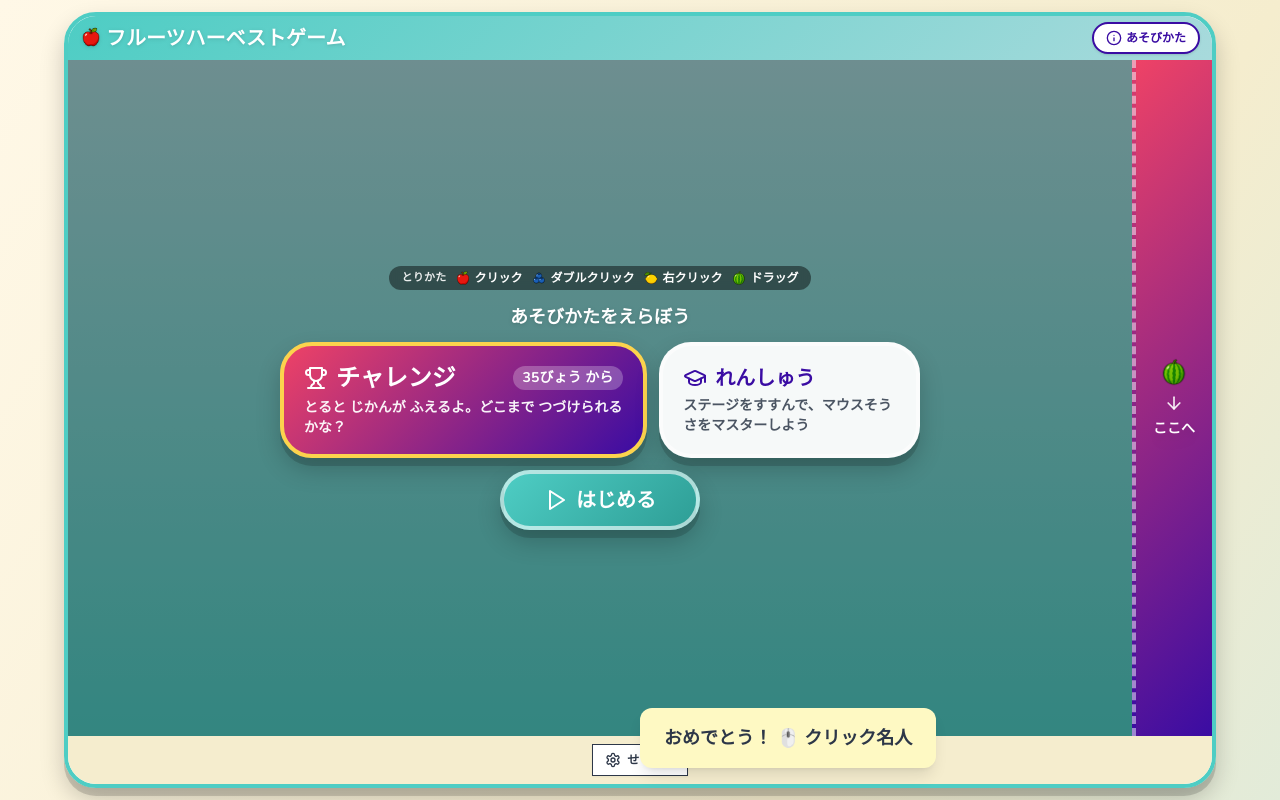
FruitHarvestGame gamification (Task 8) › Task 8.2: ゲーム終了時に ResultModal › 結果画面のダイアログが表示される（統合後・ゲーム終了時）
This screenshot has width=1280, height=800.
Click the button with test id "mode-select-practice".
click(790, 400)  # box [659,342,920,458]
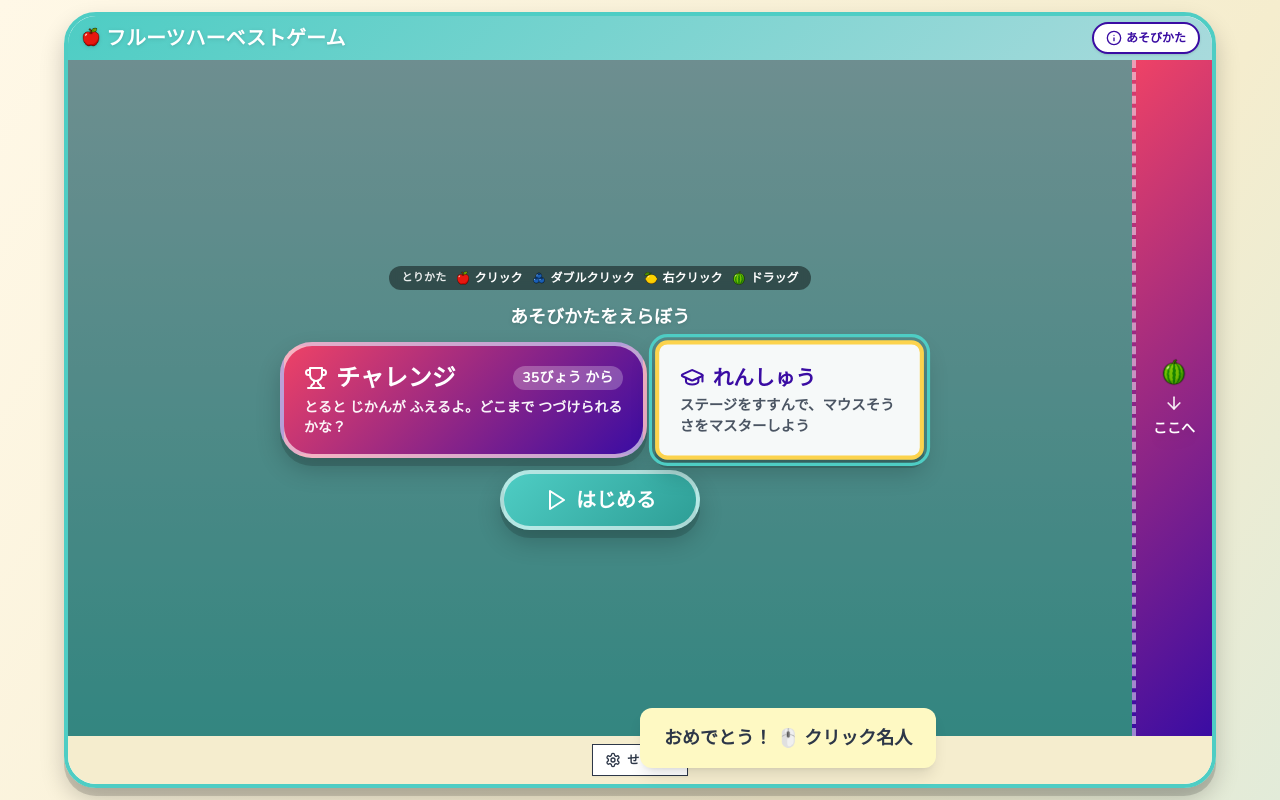
Click the button with test id "mode-start".
click(600, 500)  # box [500,470,700,530]
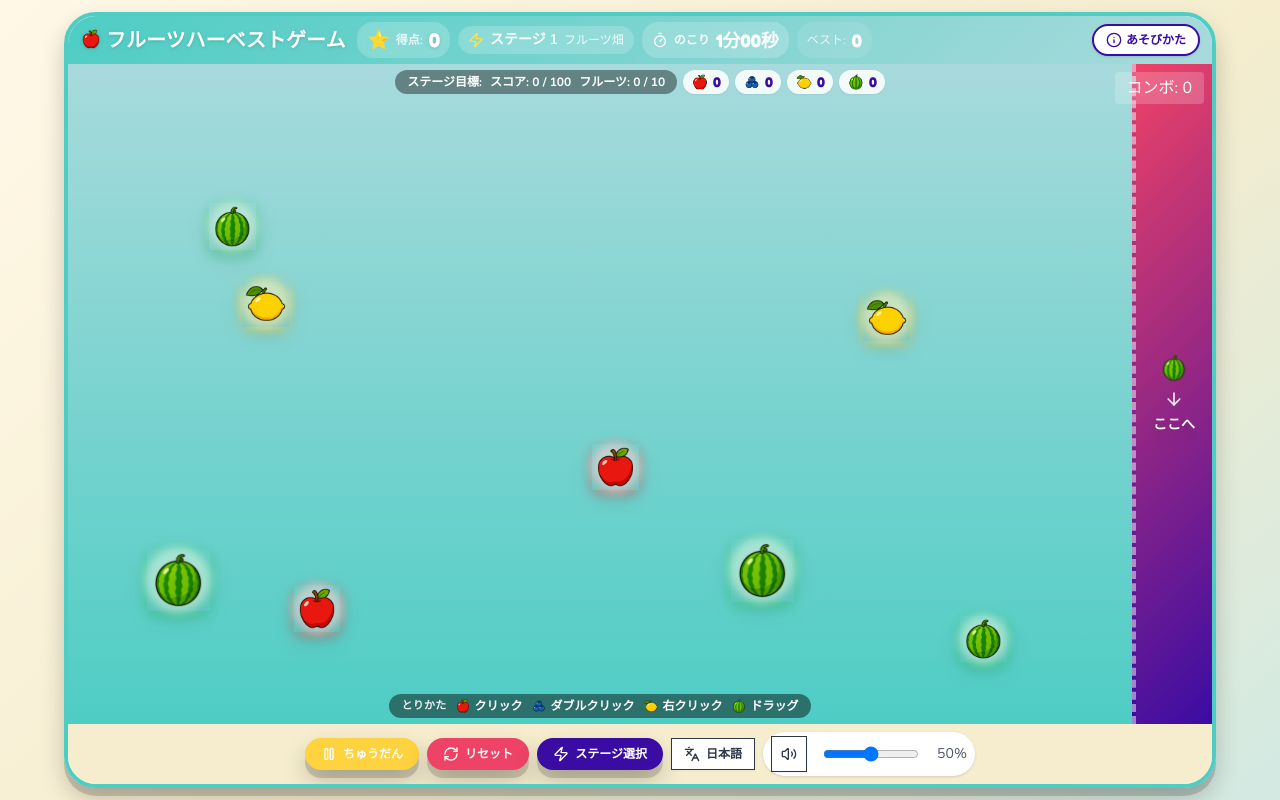
Result: the 2nd button named "スイカ（watermelon fruit, size large）" is shown at [731,539,794,602]
Click the 1st button named "りんご（apple fruit, size medium）".
click(615, 467)  # box [592,444,639,490]
Wait 60000 ms
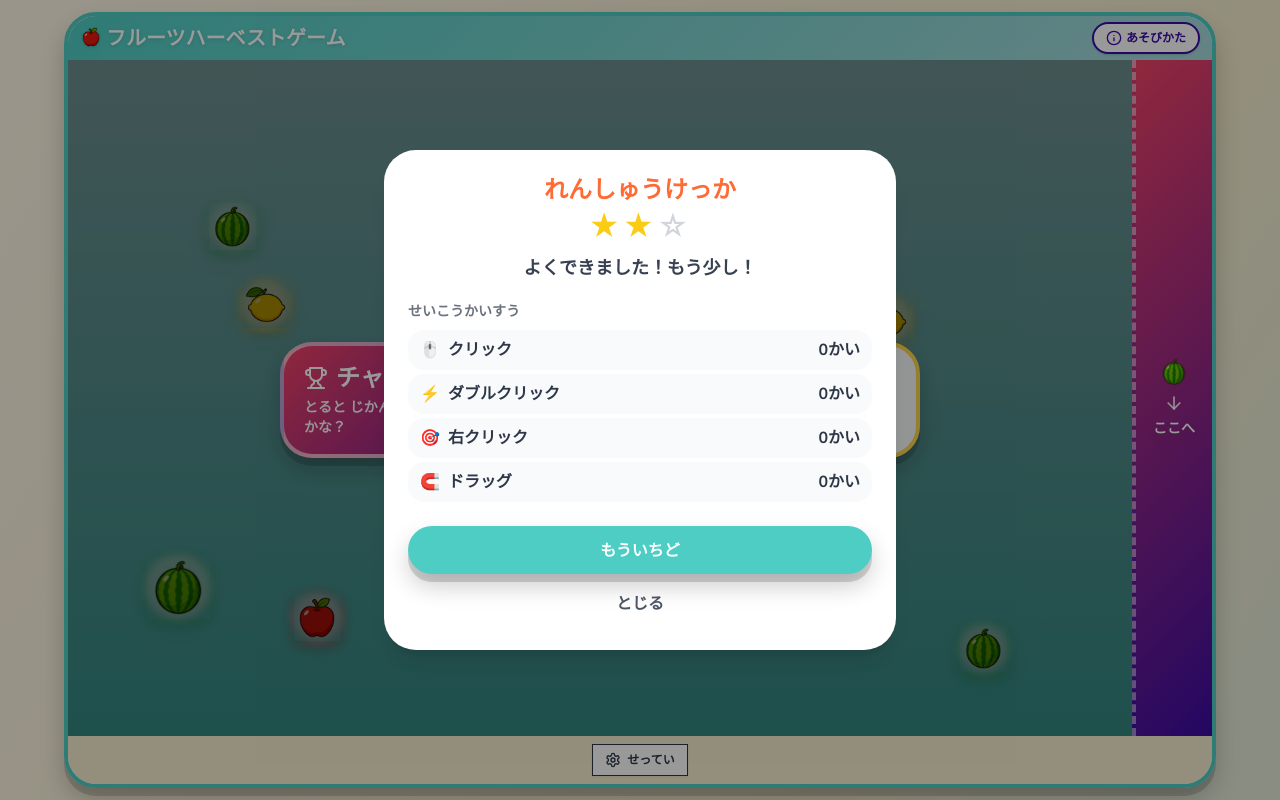
Result: the dialog "れんしゅうけっか" is shown
